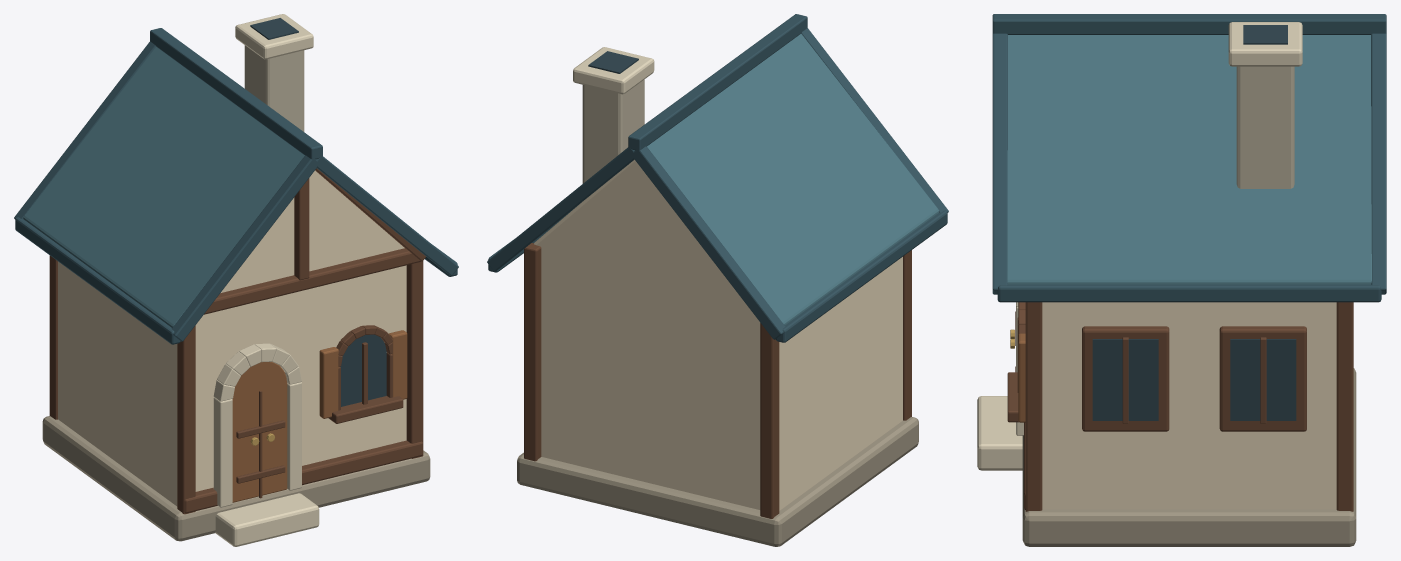
File: Kingdom_House.fbx
The picture shows the model from 3 angles, left to right: view 1: azimuth 30°, elevation 25°; view 2: azimuth 150°, elevation 25°; view 3: azimuth 270°, elevation 25°; orthographic projection. The views are drawn at different scales.
Parts seen in each view (by area): view 1: Kingdom_House_Mesh; view 2: Kingdom_House_Mesh; view 3: Kingdom_House_Mesh.
Boxes of the visible parts, <box> form: Kingdom_House_Mesh: <box>14,14,458,546</box>; Kingdom_House_Mesh: <box>487,14,948,546</box>; Kingdom_House_Mesh: <box>977,14,1386,546</box>.
Bounding box in the file's own units: 3.6 × 4.74 × 3.66.
